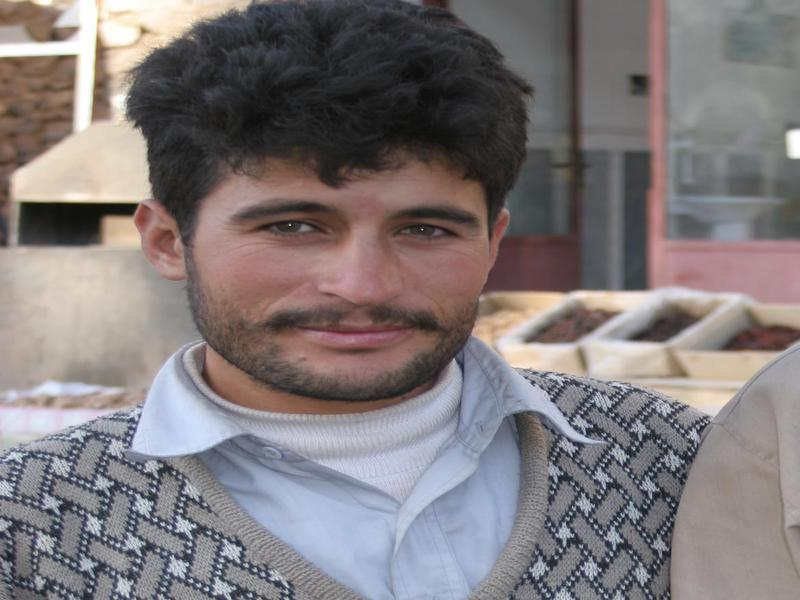person: (7, 1, 709, 600)
